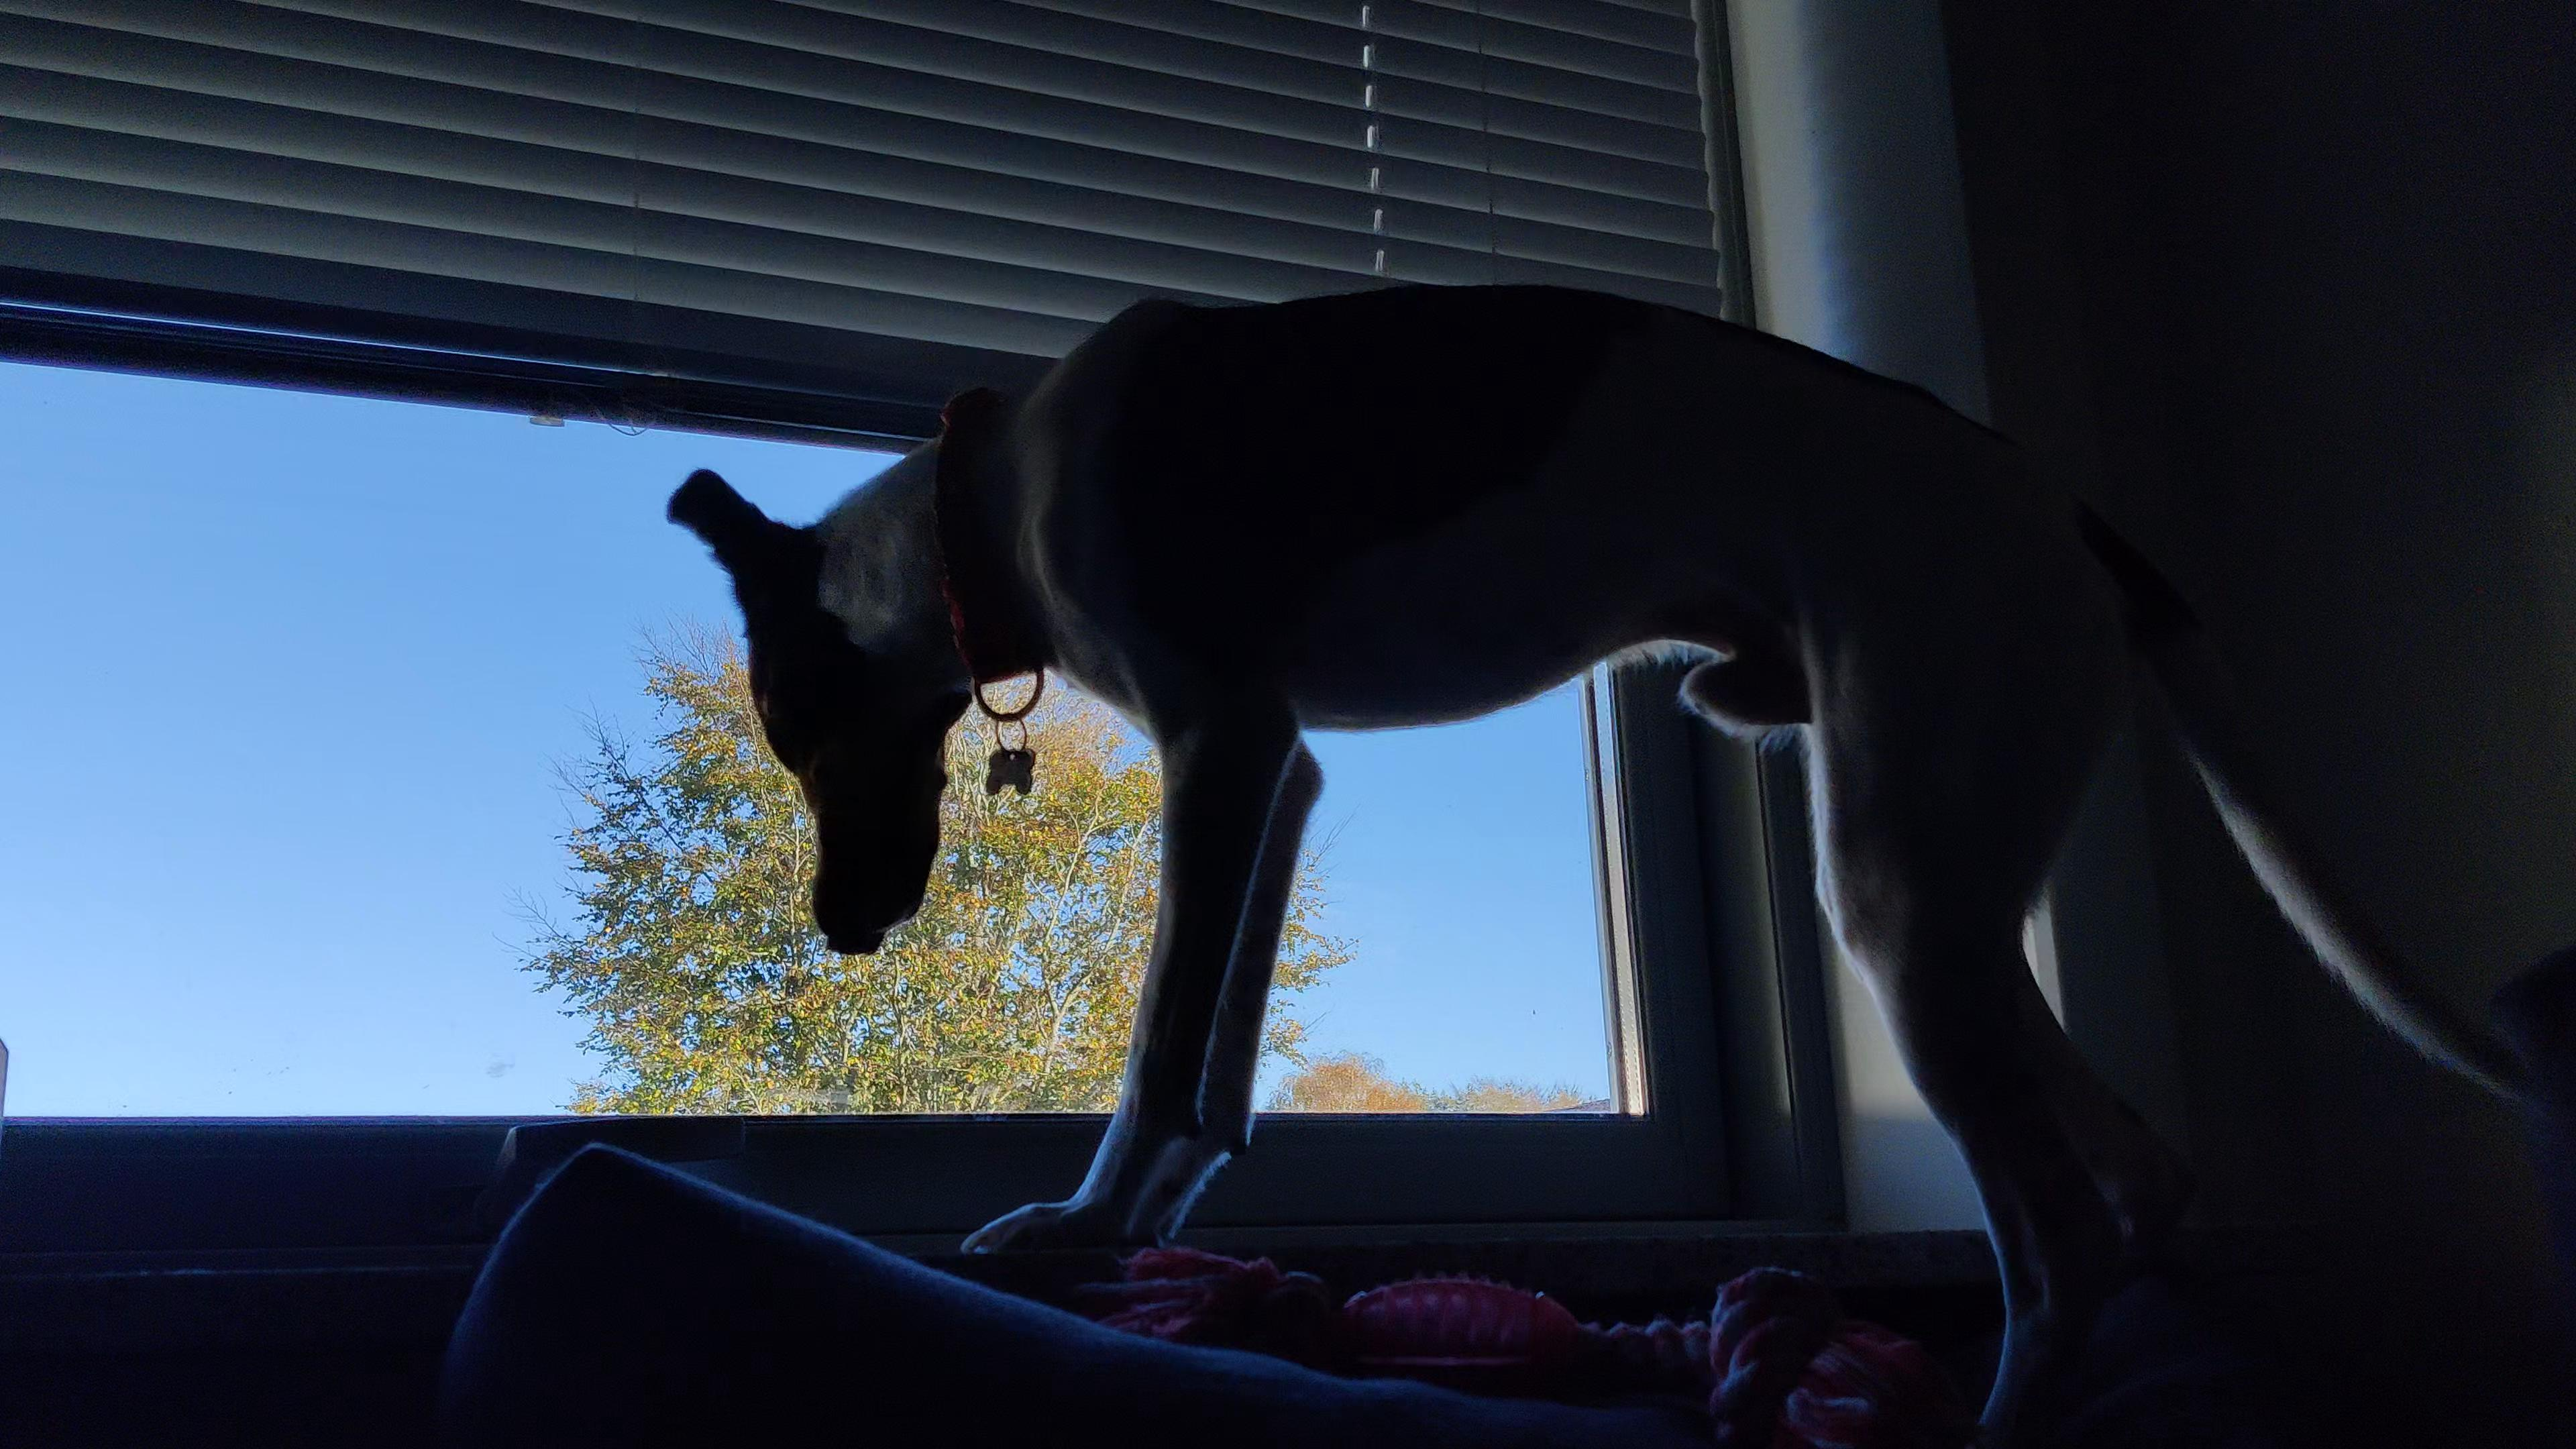Dog: (660, 278, 2532, 1449)
